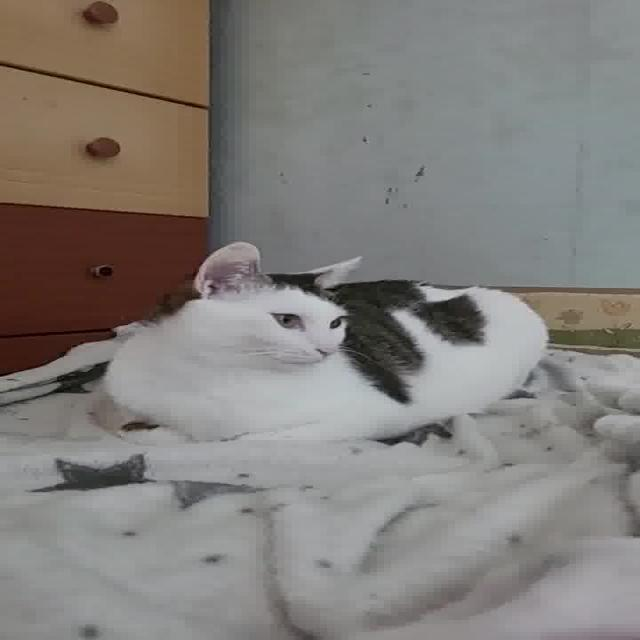cat: (86, 234, 555, 452)
